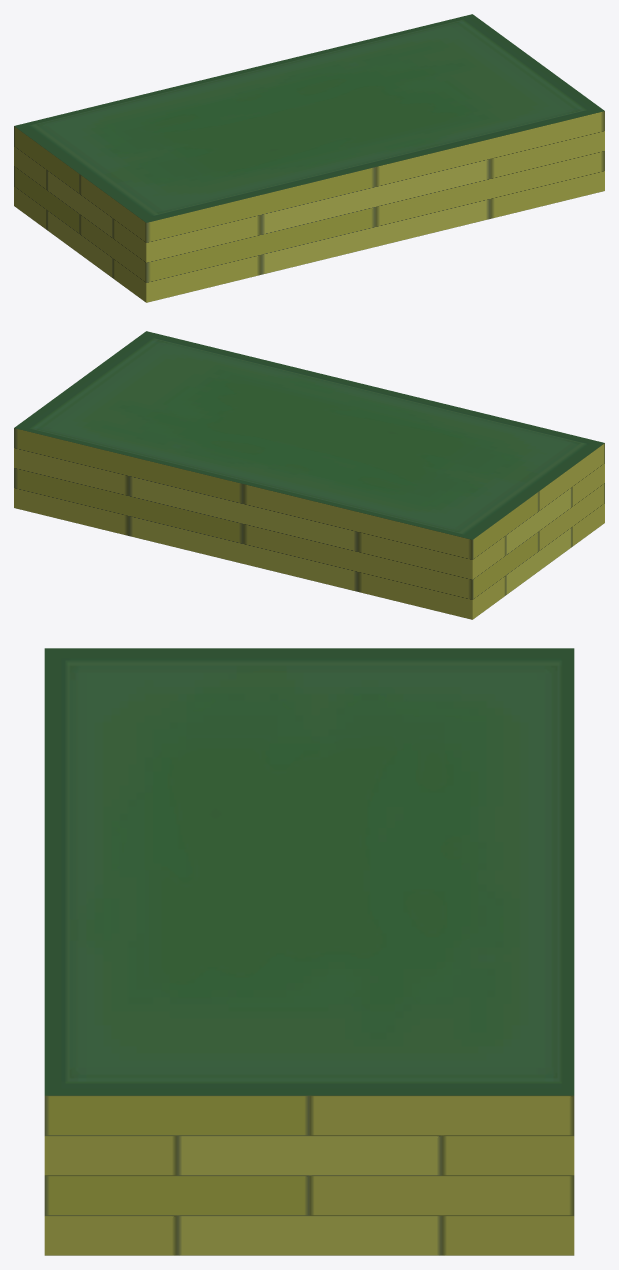
File: WallBlock 198.fbx
3 views of the same model, one above another, from view 1: azimuth 30°, elevation 25°; view 2: azimuth 150°, elevation 25°; view 3: azimuth 270°, elevation 25° (orthographic). The views are drawn at different scales.
Parts seen in each view (by area): view 1: WallBlock 198; view 2: WallBlock 198; view 3: WallBlock 198.
Boxes of the visible parts, x1,y1,x2,y2 form: WallBlock 198: [14, 14, 604, 302]; WallBlock 198: [14, 331, 604, 619]; WallBlock 198: [44, 648, 574, 1255].
Size of the model in its own units: 1.2 by 0.2 by 0.6.
